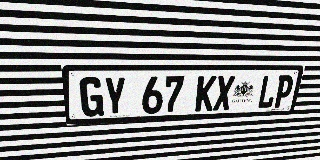6: (142, 76, 164, 114)
7: (162, 76, 184, 113)
G: (79, 77, 104, 117)
K: (195, 76, 217, 112)
L: (256, 75, 279, 109)
P: (272, 75, 295, 108)
X: (213, 76, 235, 111)
Y: (103, 77, 126, 116)
